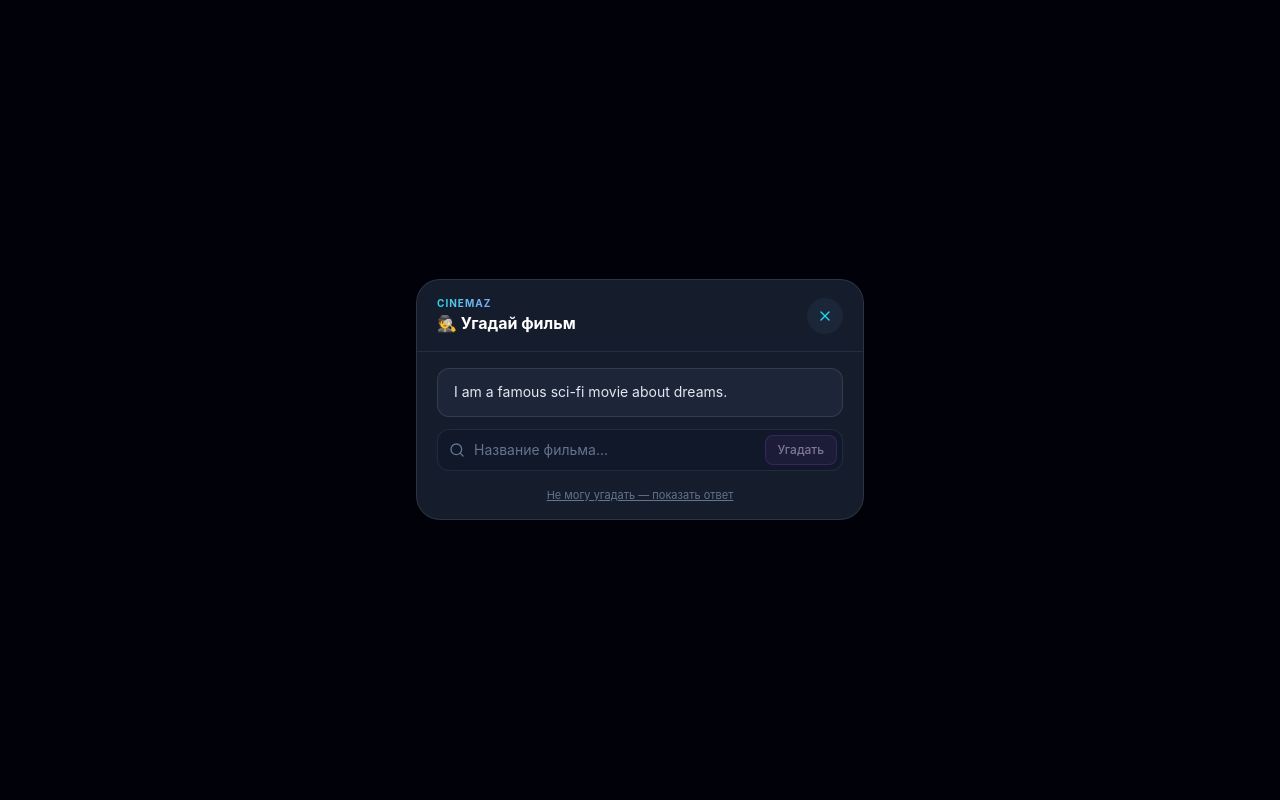
Test: GuessGameModal Component › incorrect guess shows feedback and increments attempts count
Type a guess and click submit
Type "Interstellar" into the field with placeholder "Название фильма…".
click(640, 450); type("Interstellar")  # box [437,429,843,471]
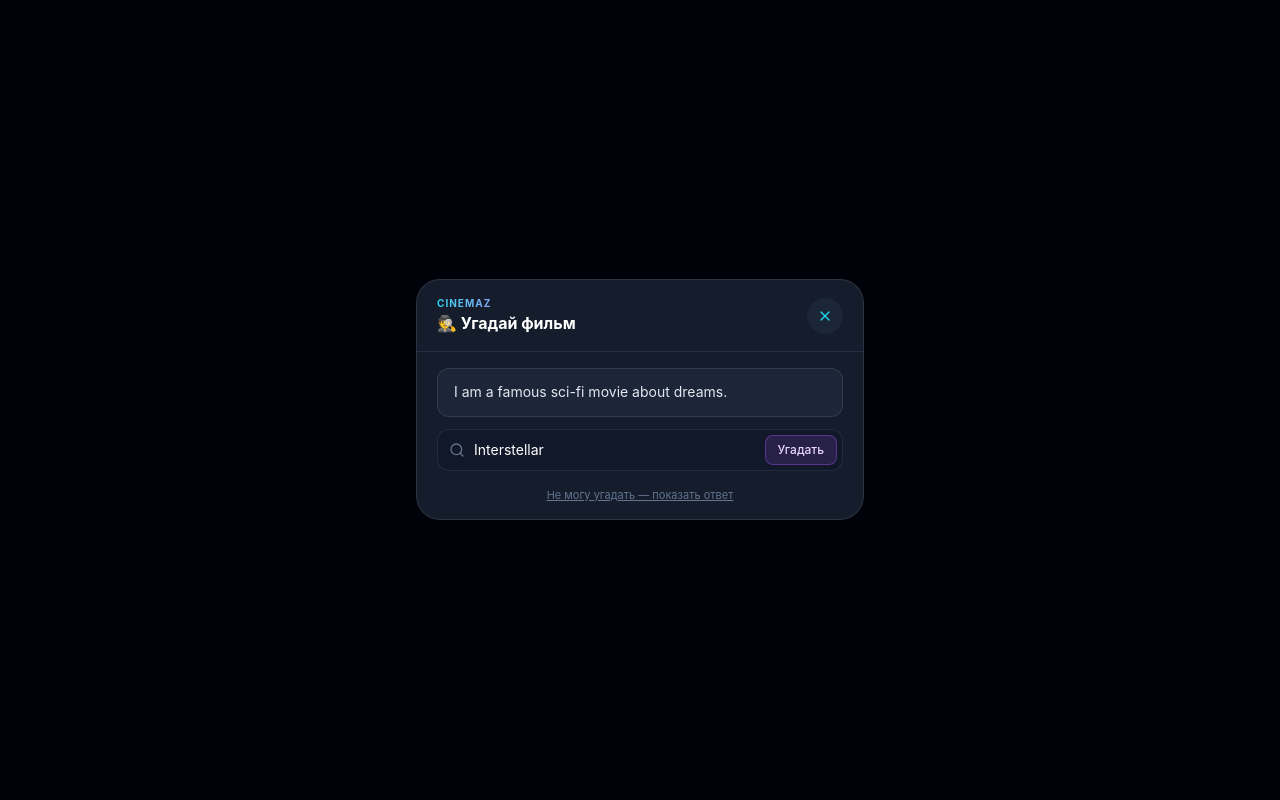
Click the button "Угадать".
click(801, 450)  # box [764,435,837,465]
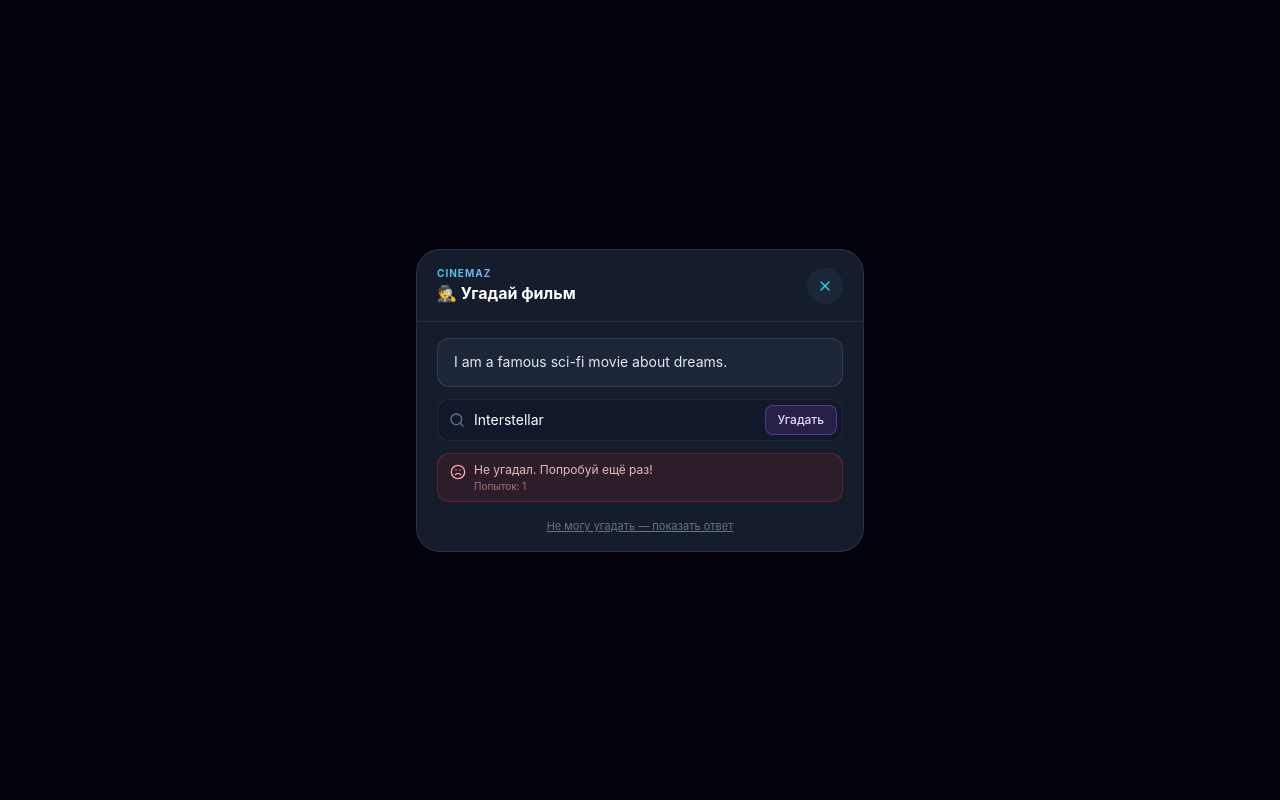
Expected: the text "Не угадал. Попробуй ещё раз!" is shown, [474,462,653,476]
Expected: the text "Попыток: 1" is shown, [474,480,526,492]
